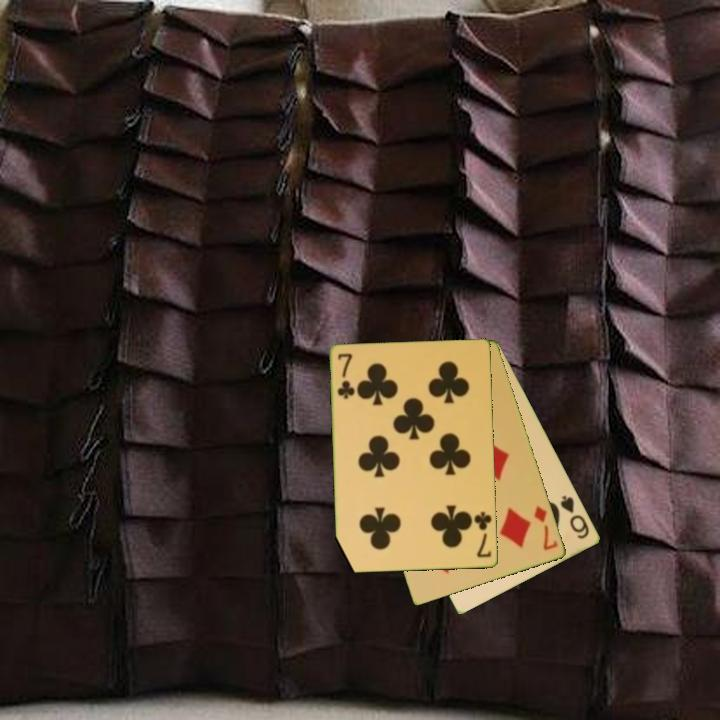6s: (557, 492, 592, 542)
7c: (471, 508, 495, 561), (334, 350, 357, 402)
7d: (531, 502, 561, 553)
